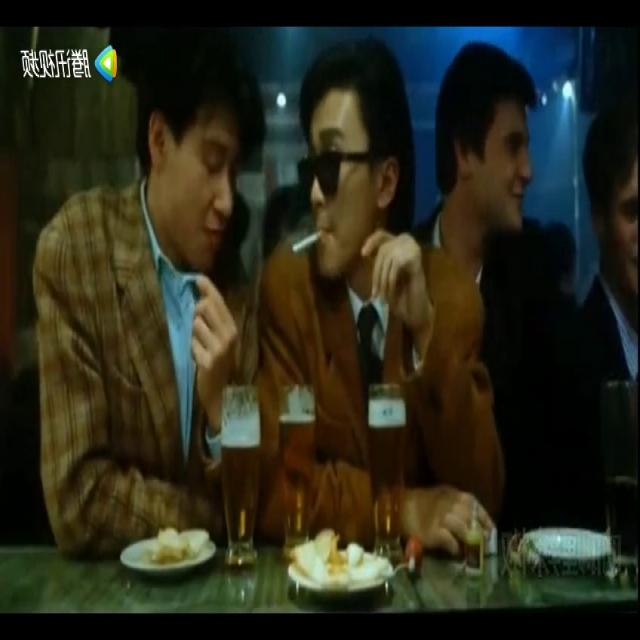smoking: (285, 225, 328, 258)
